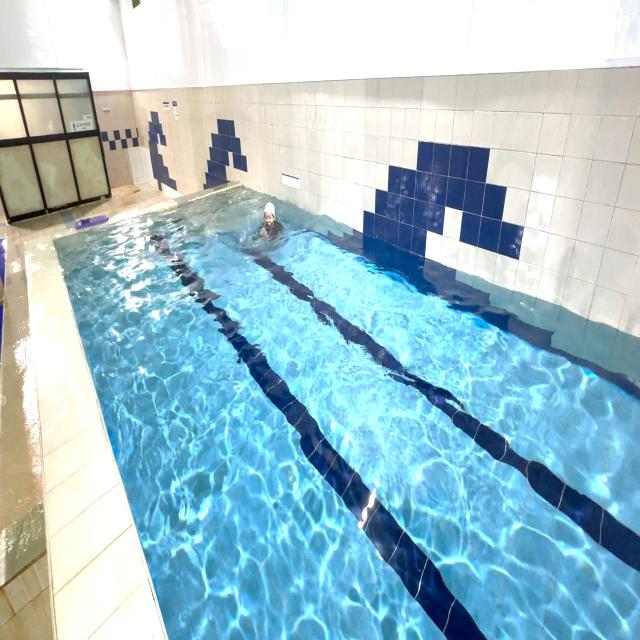Drowning: (242, 190, 291, 260)
